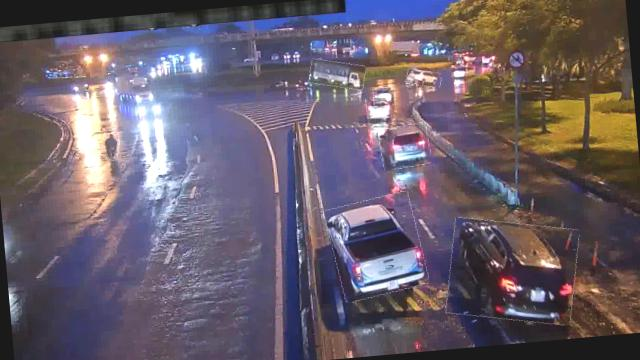Bike: (100, 132, 121, 160)
Car: (442, 212, 583, 330), (327, 193, 428, 302), (379, 123, 432, 170), (406, 68, 442, 89), (366, 97, 394, 122), (372, 86, 398, 106)
Truck: (308, 56, 366, 92)
